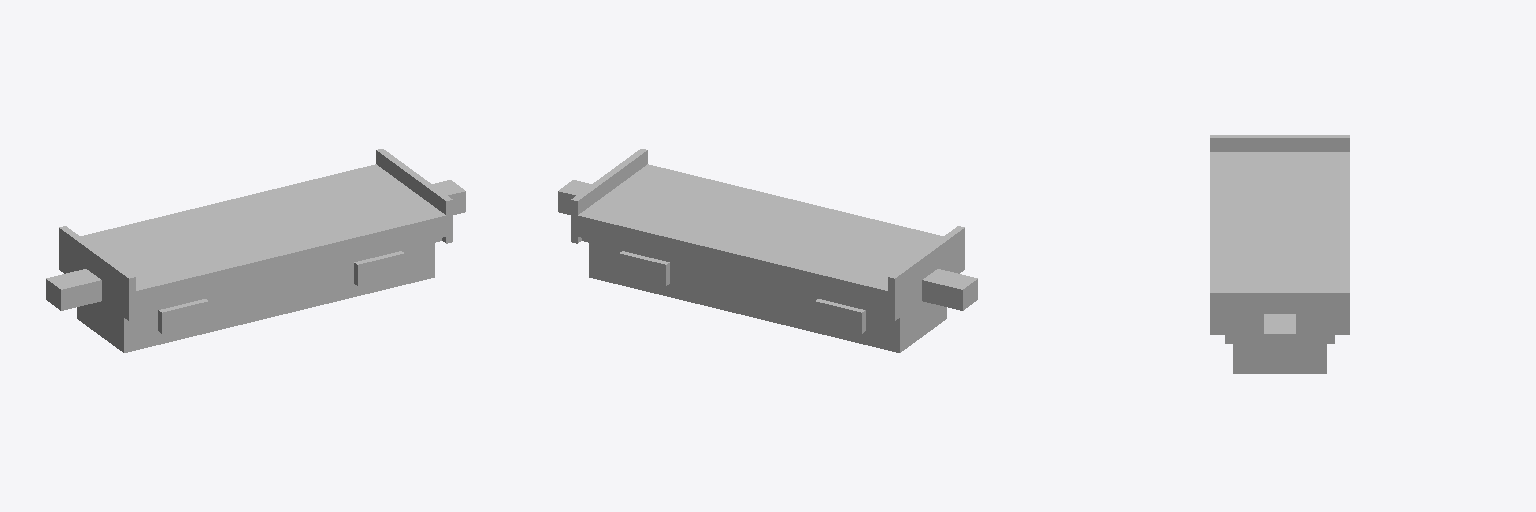
The model's file is ModelFlatCarSU.obj.
3 views of the same model, side by side, from view 1: azimuth 30°, elevation 25°; view 2: azimuth 150°, elevation 25°; view 3: azimuth 270°, elevation 25° (orthographic).
Visible parts, largest first — view 1: box24, box2, box6, box23, box7, box, box14, box0, box1; view 2: box24, box2, box6, box23, box7, box, box14, box0, box1; view 3: box24, box7, box2, box6, box1.
Part boxes in pixels (x1,y1,x2,y2): box24: (80, 164, 445, 311); box2: (77, 243, 434, 352); box6: (59, 226, 135, 320); box23: (46, 269, 101, 310); box7: (376, 149, 452, 243); box: (354, 251, 404, 285); box14: (158, 299, 208, 333); box0: (136, 238, 441, 315); box1: (432, 180, 465, 214); box24: (578, 164, 943, 311); box2: (589, 243, 946, 352); box6: (888, 226, 964, 320); box23: (922, 269, 977, 310); box7: (571, 149, 647, 243); box: (619, 251, 669, 285); box14: (815, 299, 865, 333); box0: (582, 238, 887, 315); box1: (558, 180, 591, 214); box24: (1210, 152, 1349, 288); box7: (1210, 289, 1349, 334); box2: (1233, 335, 1326, 373); box6: (1210, 135, 1349, 151); box1: (1264, 314, 1295, 354).
Size of the model in its own units: 3.75 by 0.75 by 1.12.